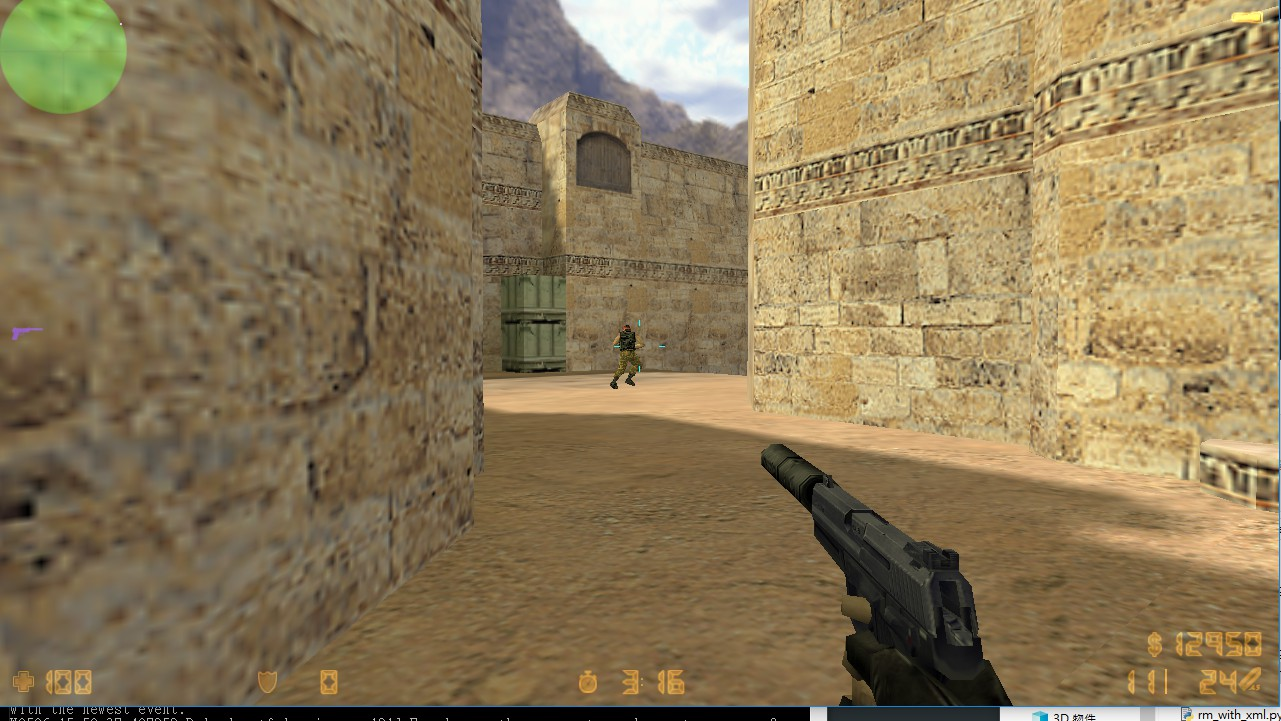person: (608, 319, 643, 390)
